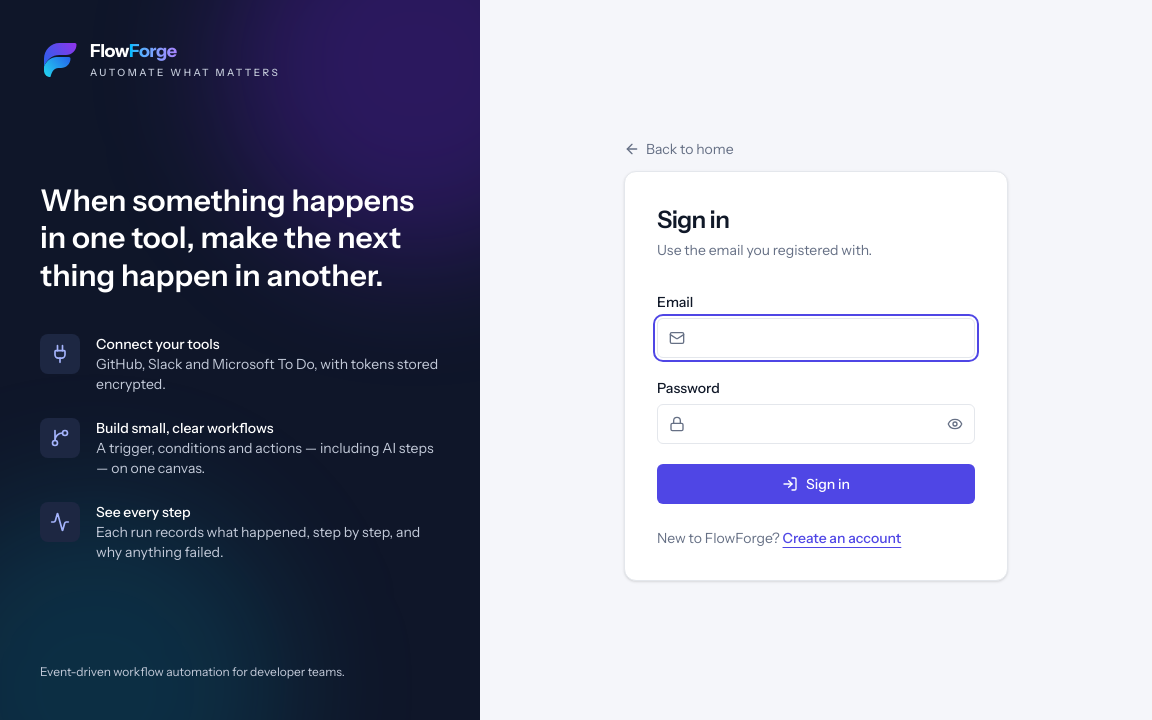
Test: robust sign-in and registration (Part 12) › a network failure gets a clear message instead of raw text
Type "ada@example.test" into the field labelled "Email".
click(816, 338); type("ada@example.test")  # box [657,318,975,358]
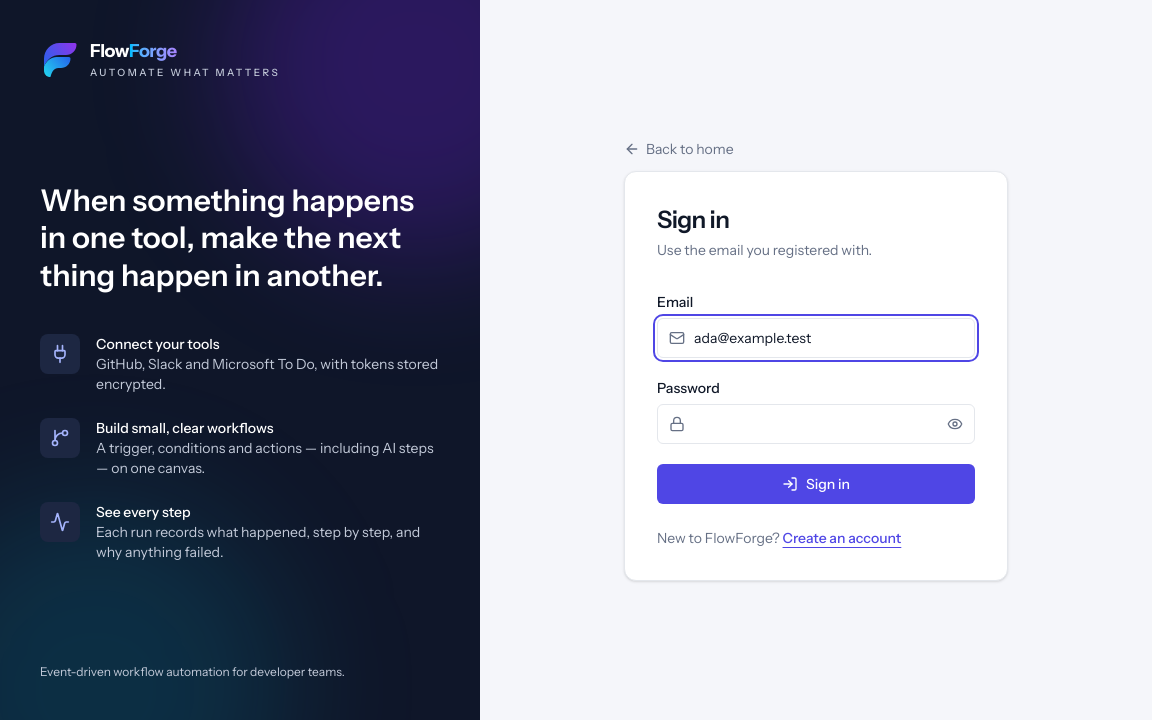
Type "correct horse battery" into the password field labelled "Password".
click(816, 424); type("correct horse battery")  # box [657,404,975,444]
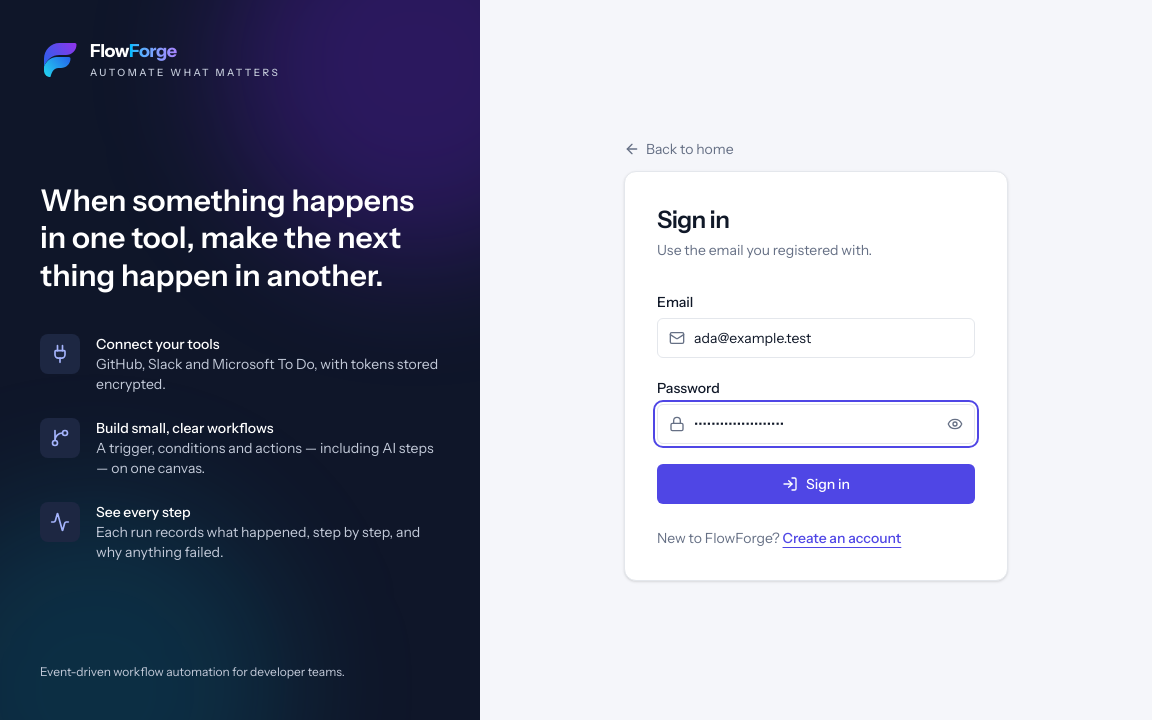
Click the button "Sign in".
click(816, 484)  # box [657,464,975,504]
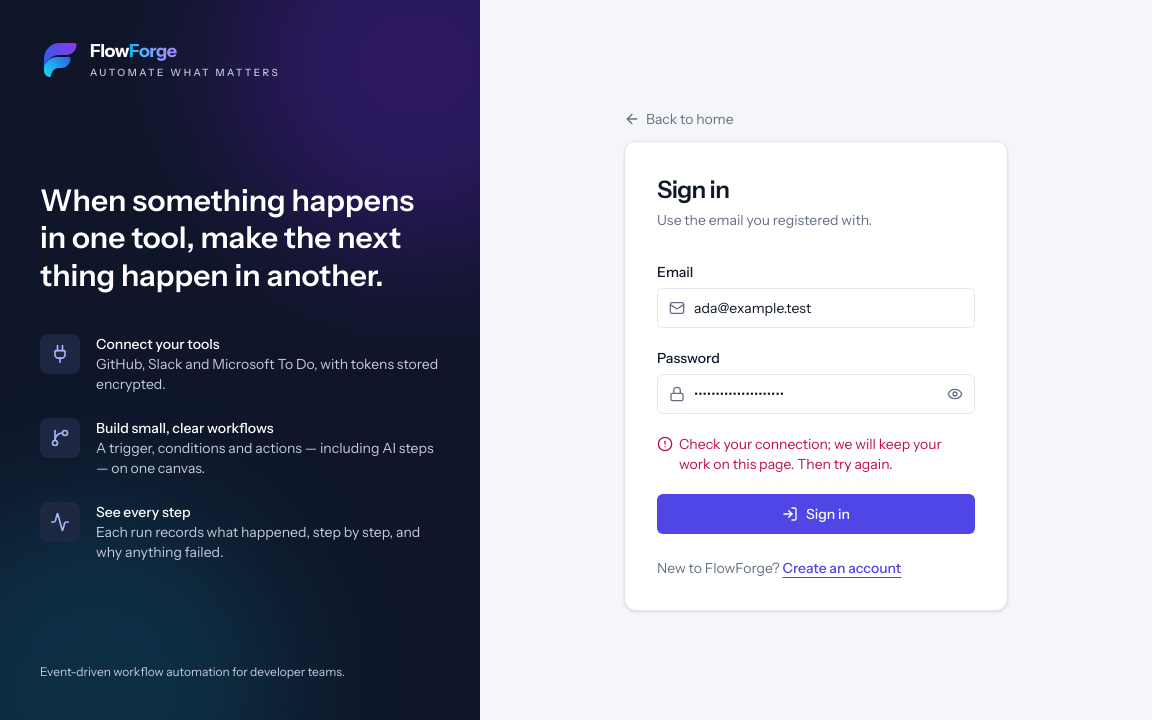
expect the message shows "Check your connection": met, box [679,435,942,473]
